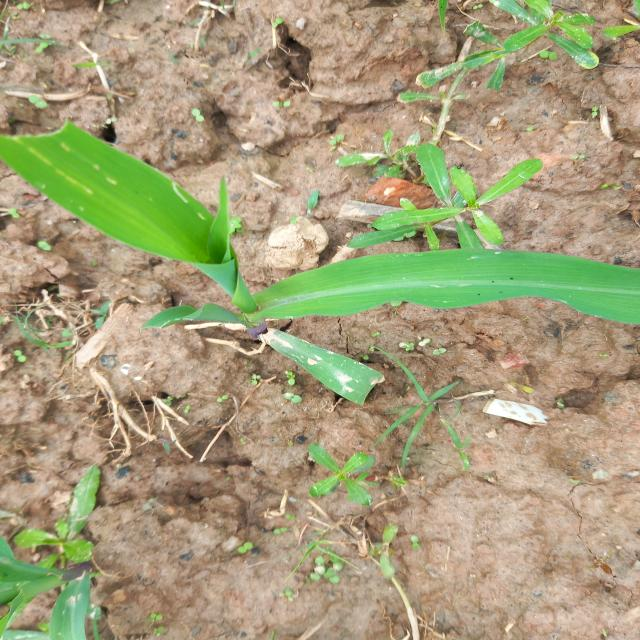maize: (0, 119, 640, 462)
weed: (0, 464, 159, 640), (355, 135, 594, 247), (413, 0, 605, 121), (385, 342, 469, 471), (298, 421, 399, 514), (282, 536, 364, 590), (561, 0, 640, 51), (368, 525, 433, 580)
